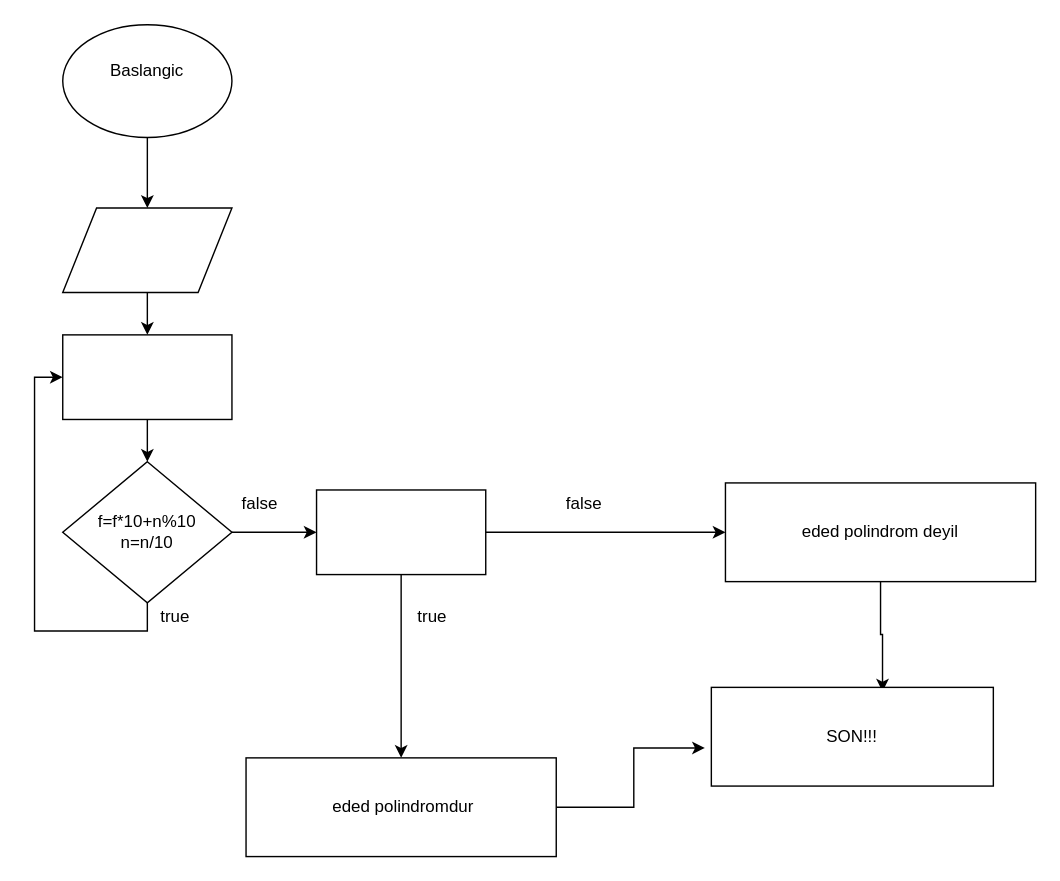
Some shapes in this 1060 by 881 pixel diagram are drawn without their labels. Here are the shapes that lost their labels. From the top down, the box of each, then its label:
(61, 207, 232, 293): n ededini daxil edirik
(61, 333, 232, 419): f=0
(315, 489, 486, 575): n==f
